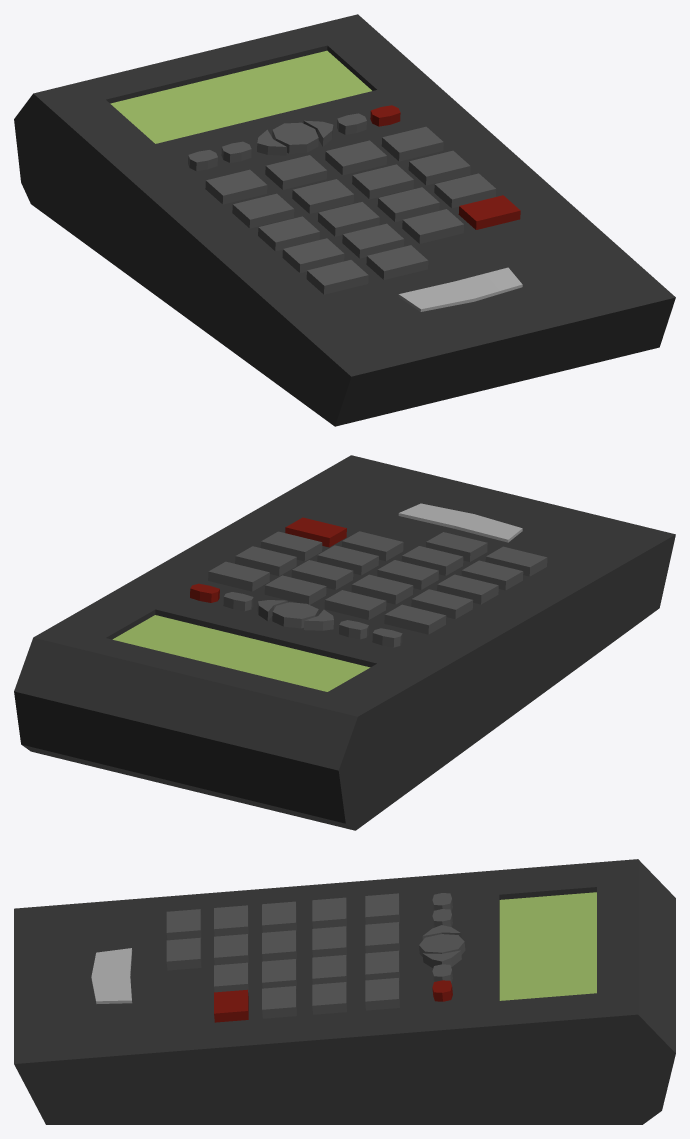
File: calculator.glb
The picture shows the model from 3 angles, top to bottom: view 1: azimuth 30°, elevation 25°; view 2: azimuth 150°, elevation 25°; view 3: azimuth 270°, elevation 25°; orthographic projection.
Visible parts, largest first — view 1: Calculator; view 2: Calculator; view 3: Calculator.
Boxes of the visible parts, x1,y1,x2,y2 form: Calculator: [14, 14, 675, 426]; Calculator: [14, 455, 675, 830]; Calculator: [14, 859, 675, 1124].
Bounding box in the file's own units: 0.1557 × 0.0515 × 0.2802.
Materials: 1 (1 with a texture image).
